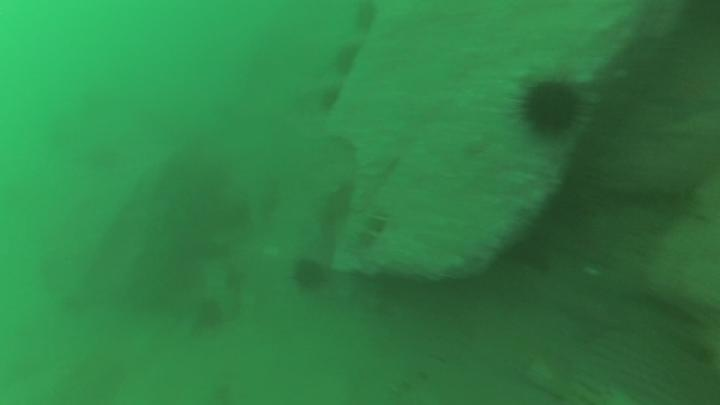echinus: (507, 70, 594, 146), (284, 256, 331, 294), (315, 81, 344, 119), (333, 42, 363, 76), (351, 9, 382, 31)
